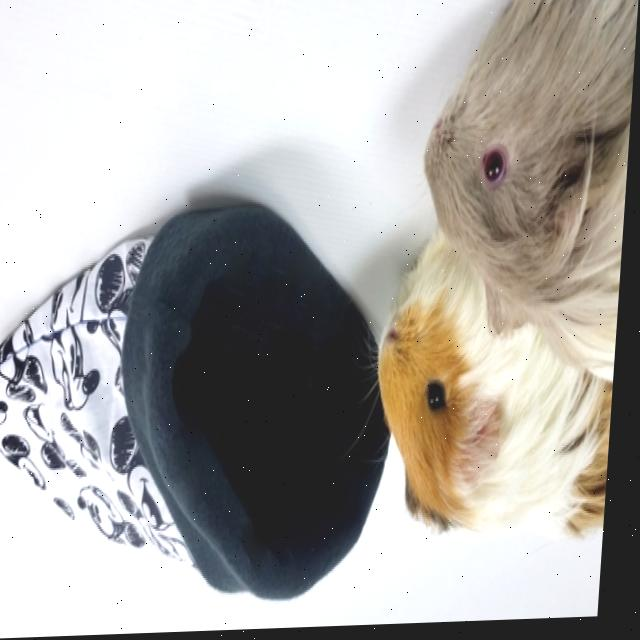guinea pig: (416, 0, 640, 388), (374, 252, 626, 550)
